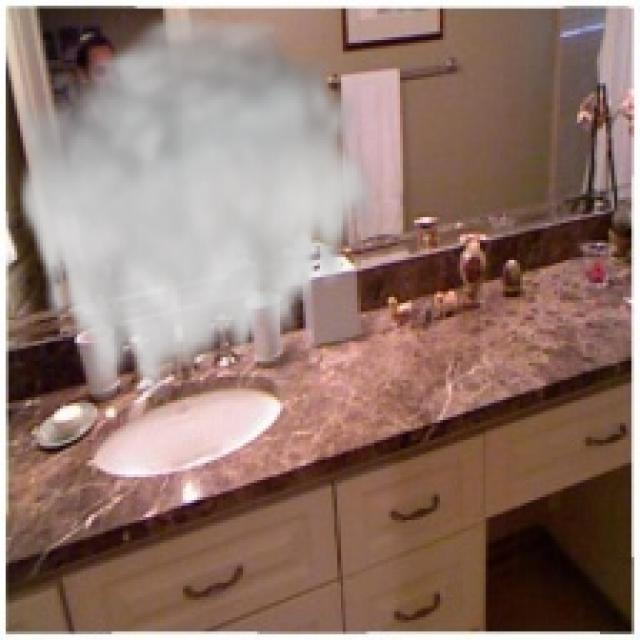Smoke: (14, 2, 380, 418)
